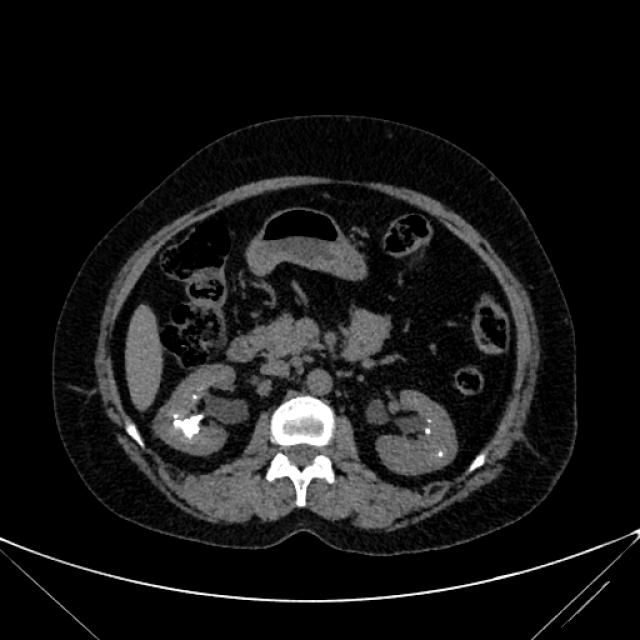kidney: (372, 398, 452, 469), (165, 371, 235, 449)
stone: (174, 415, 199, 435), (191, 392, 198, 400), (426, 429, 430, 434), (438, 453, 441, 457)
